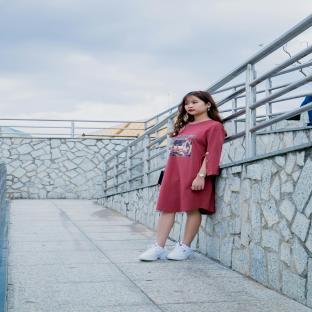Human: (139, 91, 227, 261)
